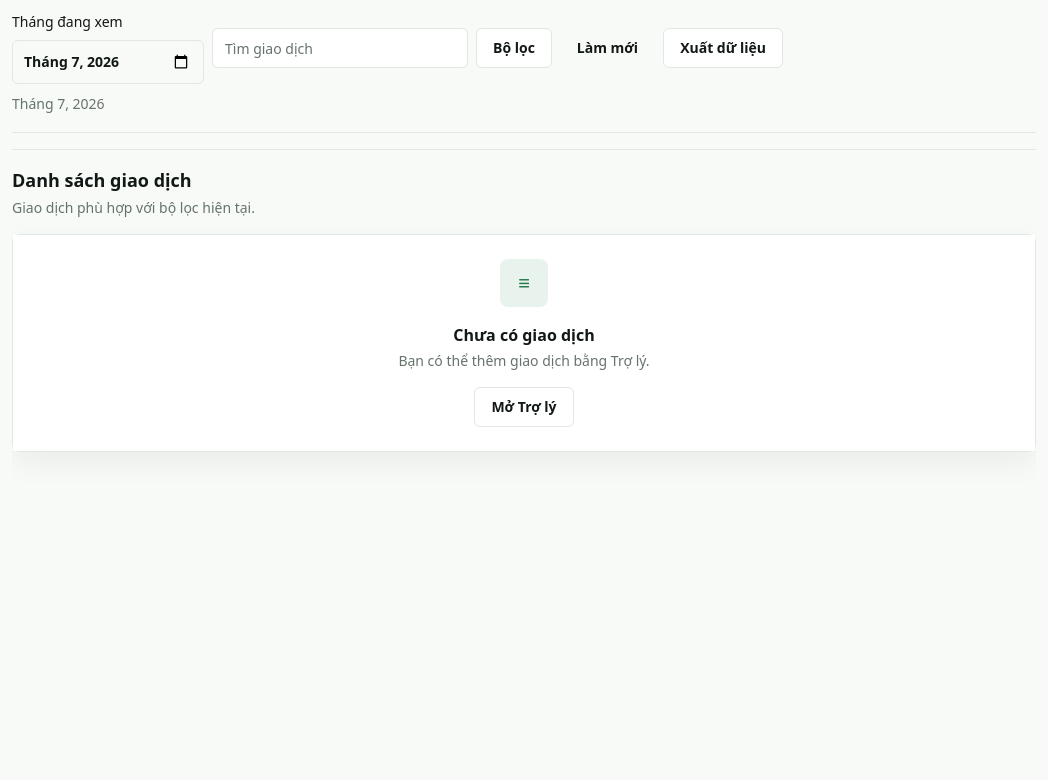
Test: separated post-MVP pages › renders transaction list, filters, export, and delete behavior on transactions page
Expected: the text "Chưa có giao dịch" is shown, [453,324,595,346]
Expected: the button "Xuất dữ liệu" is shown, [663,28,783,68]
Step 1. Click the button "Bộ lọc" → (514, 48), box [476,28,552,68]
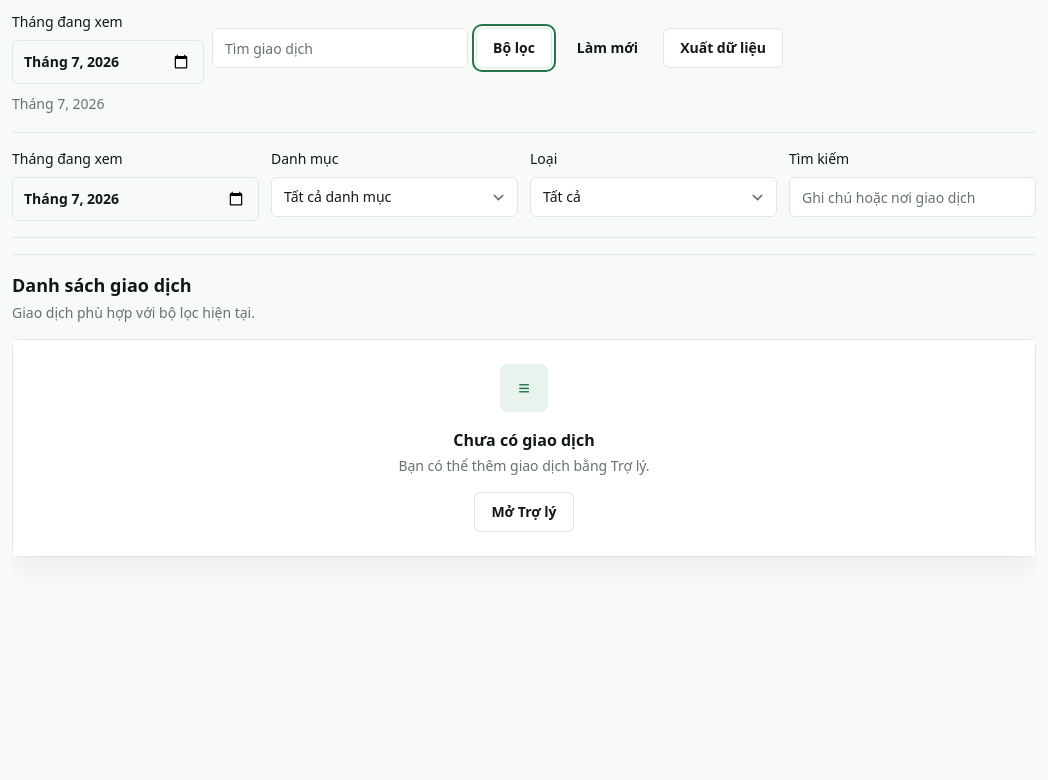
Step 2. Select "Ăn uống" in the dropdown labelled "Danh mục" → (394, 197), box [271,177,518,217]
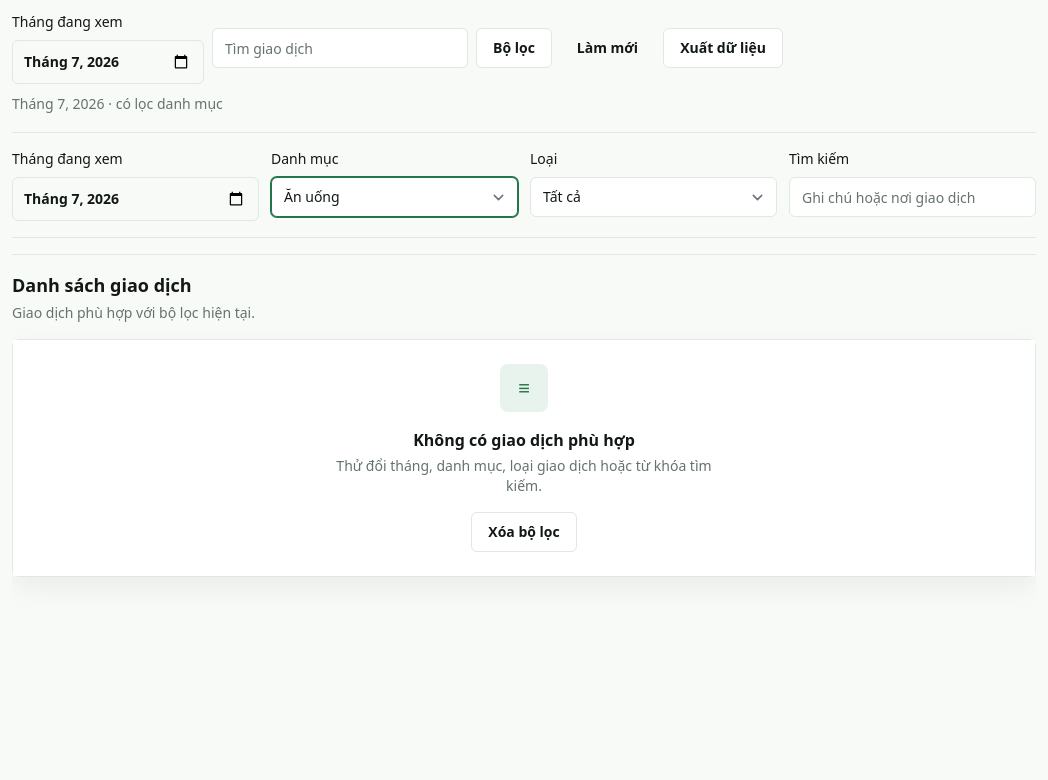
Now the text "Không có giao dịch phù hợp" is shown, box [413,429,635,451]
